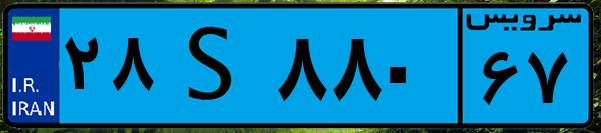0: (385, 28, 445, 110)
2: (57, 26, 110, 100)
6: (475, 38, 525, 113)
7: (525, 38, 570, 115)
8: (270, 28, 330, 110), (330, 28, 385, 110), (110, 28, 158, 98)
S: (158, 12, 270, 120)
